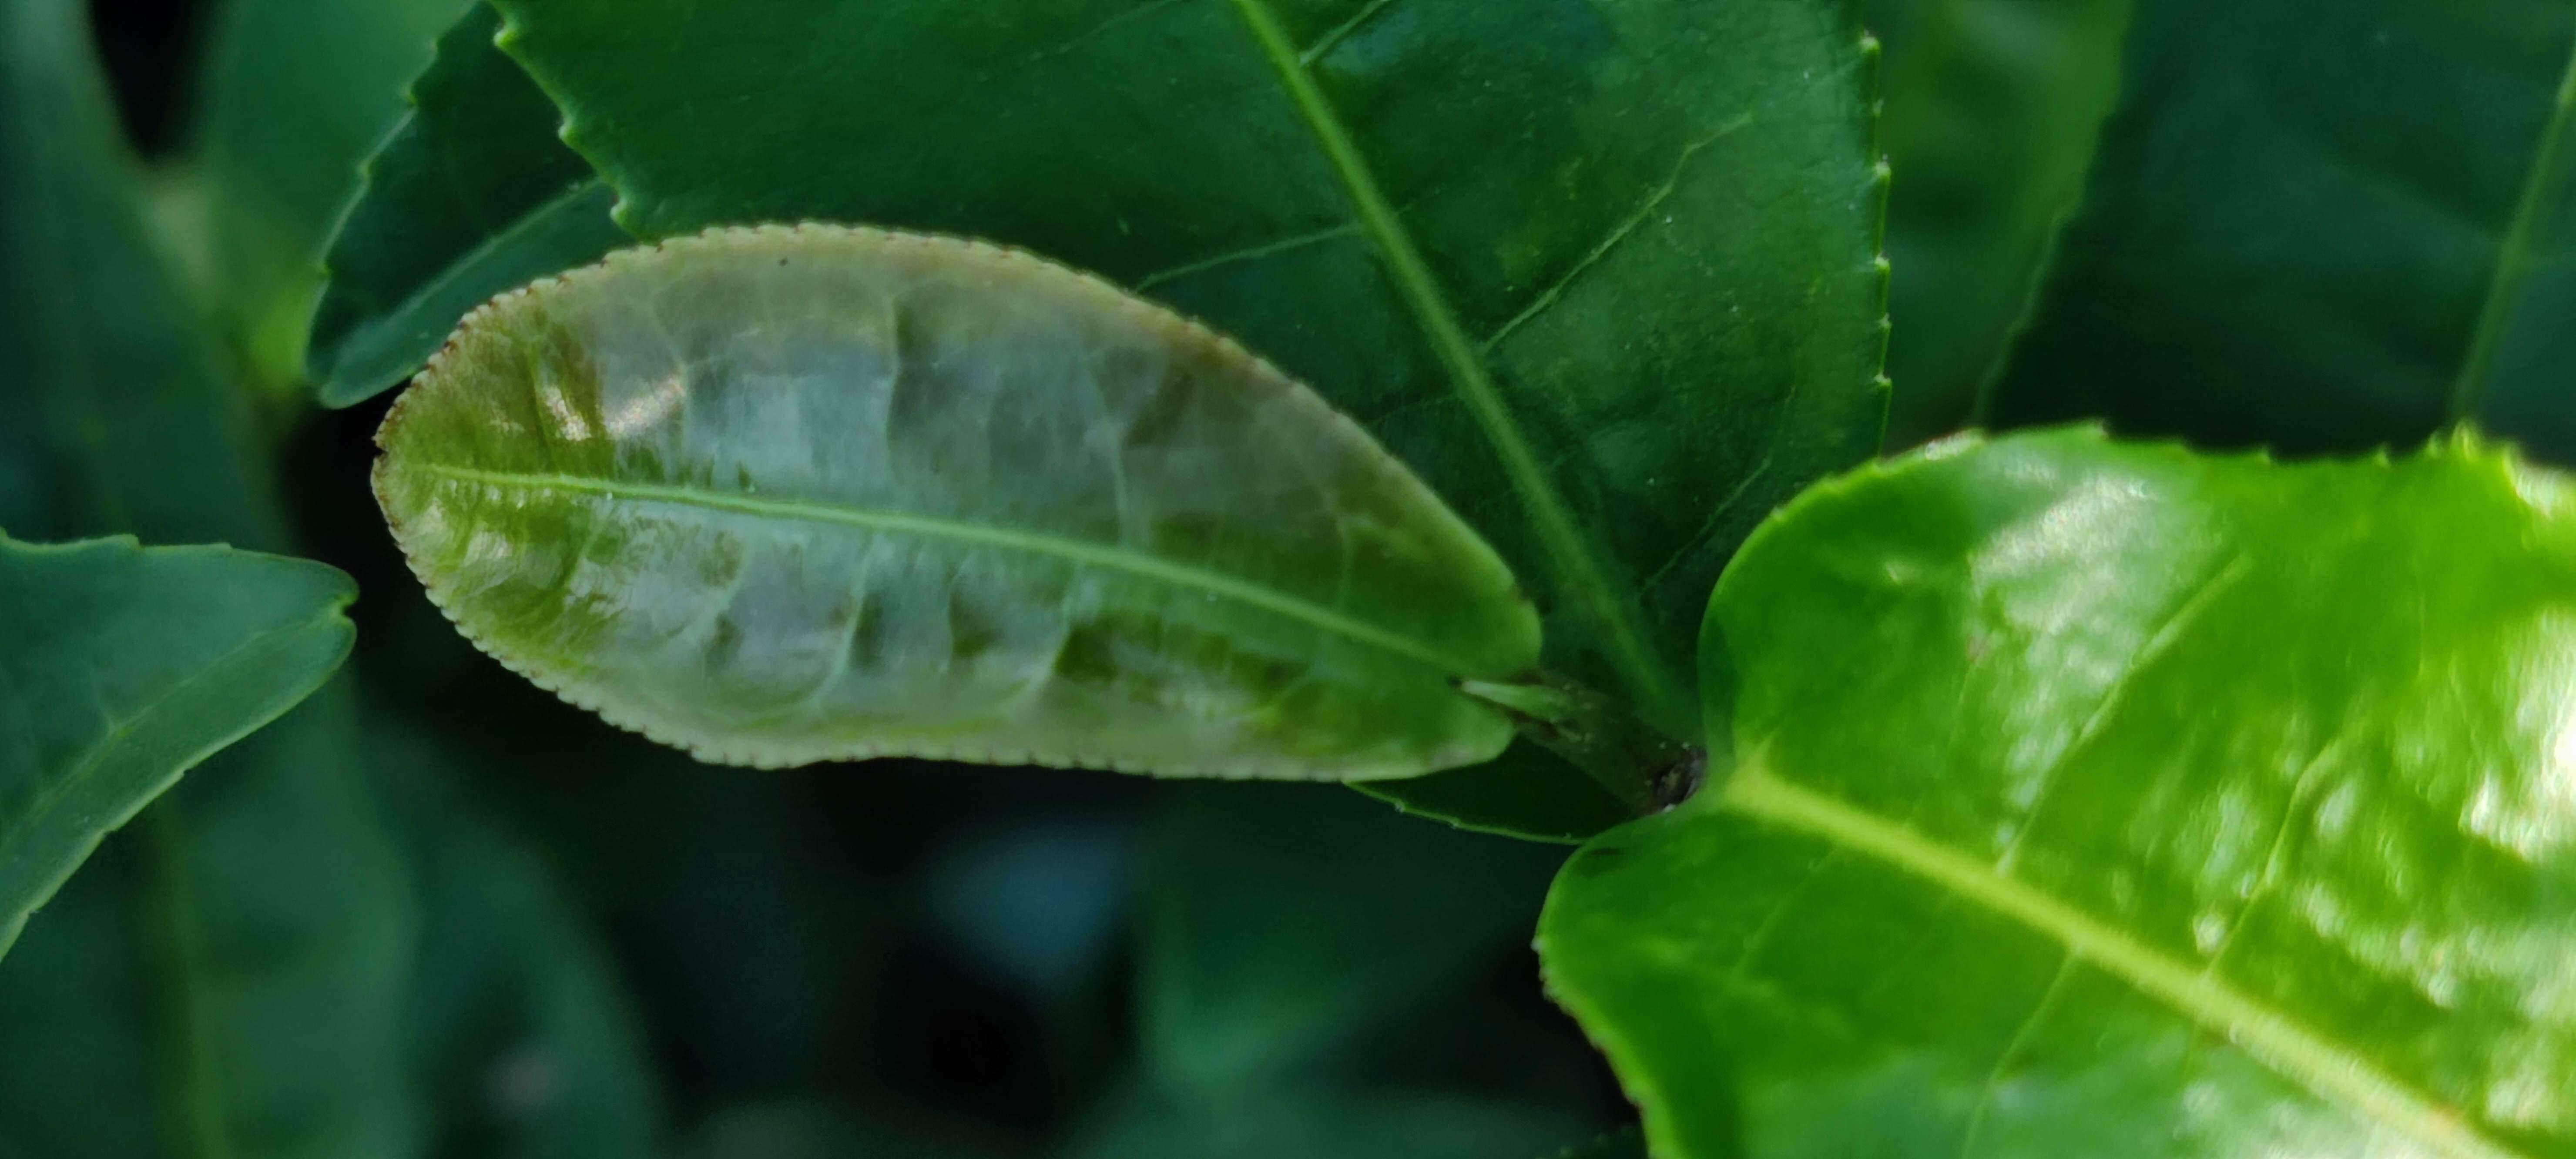healthy: (1539, 430, 2576, 1154)
tanju_low: (368, 215, 1549, 783)
